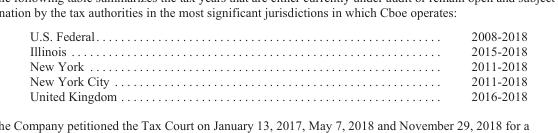table: (28, 28, 526, 102)
table column: (28, 28, 293, 102), (293, 28, 526, 102)
table row: (28, 28, 526, 43), (28, 43, 526, 58), (28, 58, 526, 73), (28, 87, 526, 102), (28, 73, 526, 87)
